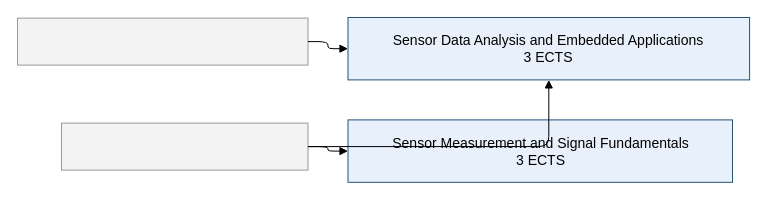
The diagram is 768 pixels wide and 200 high, and some of its shapes have lost their labels. Each missing label, with the centre of its shape:
"Embedded Sensors (B5722)" goes at point 184,146.
"Machine Learning (81610, 88202)" goes at point 162,41.
